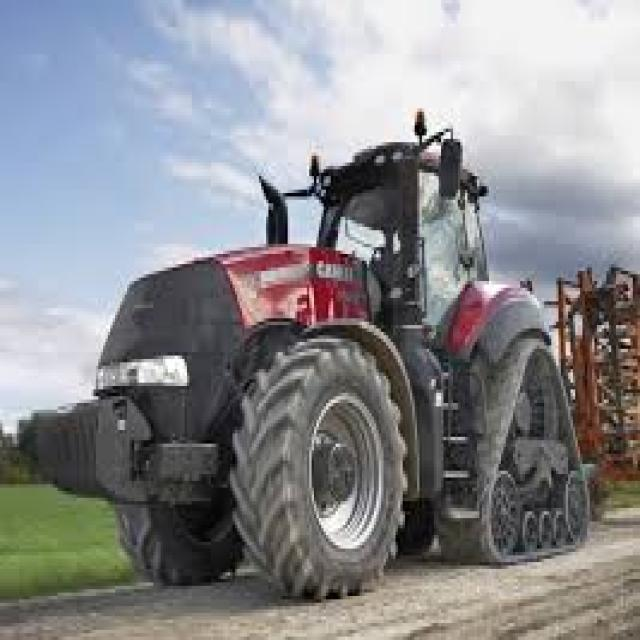Tratores - v5 YOLO V8L 2024-11-13: (86, 132, 591, 597)
